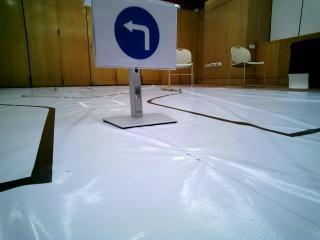left: (93, 2, 179, 68)
